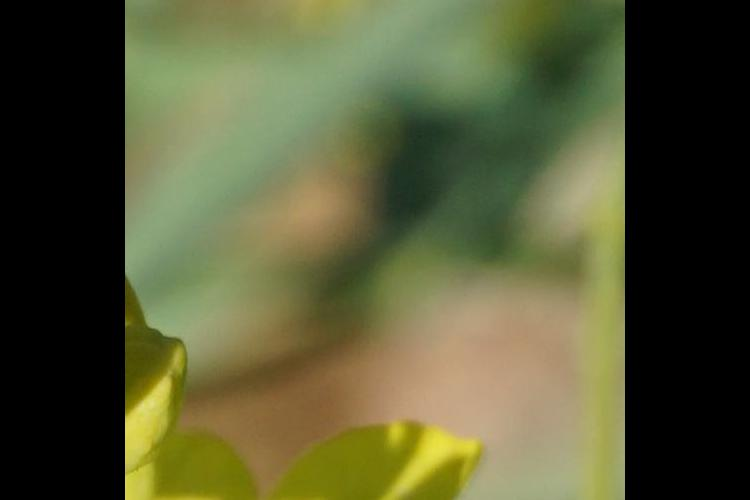yellow: (131, 318, 493, 500)
